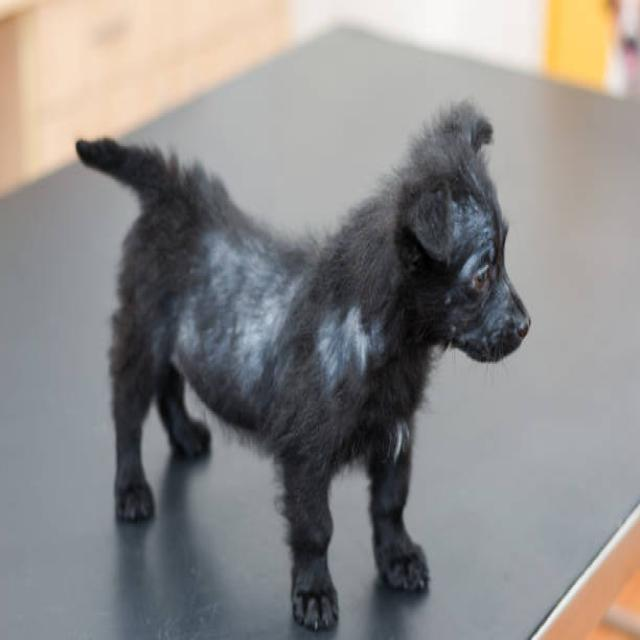mange: (175, 224, 372, 416)
